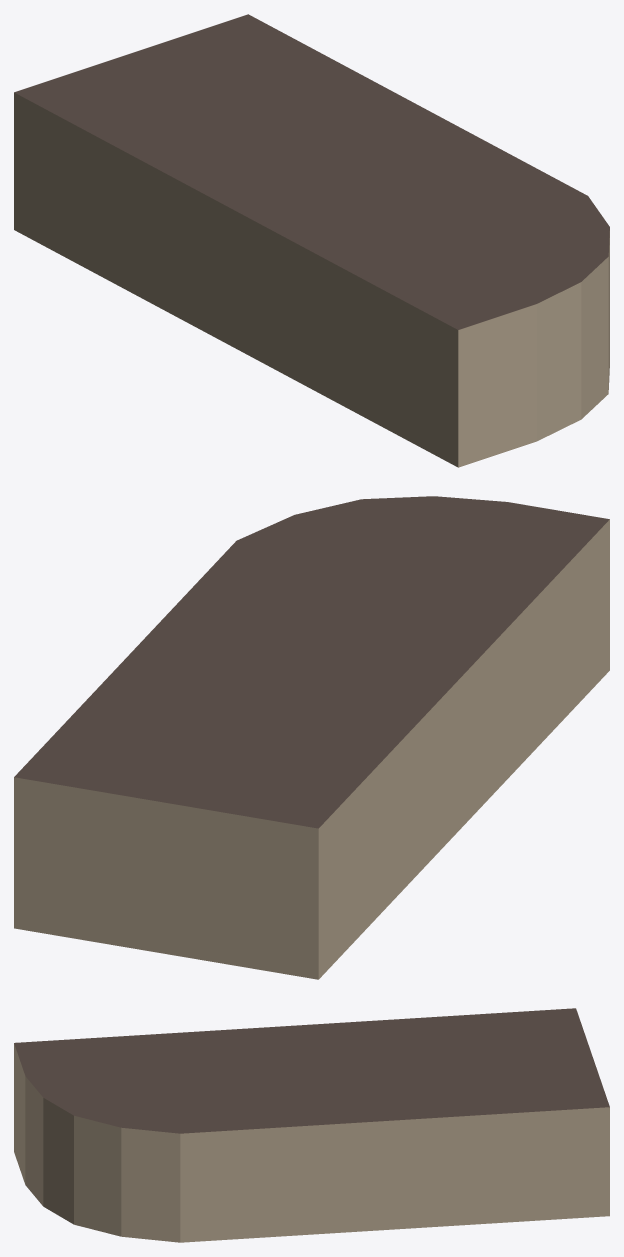
3 renders of one model, top to bottom at view 1: azimuth 30°, elevation 25°; view 2: azimuth 150°, elevation 25°; view 3: azimuth 270°, elevation 25°, orthographic. The views are drawn at different scales.
Visible parts, largest first — view 1: HP-w298784159; view 2: HP-w298784159; view 3: HP-w298784159.
Part boxes in pixels (x1,y1,x2,y2): HP-w298784159: (14, 14, 609, 467); HP-w298784159: (14, 496, 609, 979); HP-w298784159: (14, 1008, 609, 1242).
Size of the model in its own units: 22.21 by 9 by 44.59.
